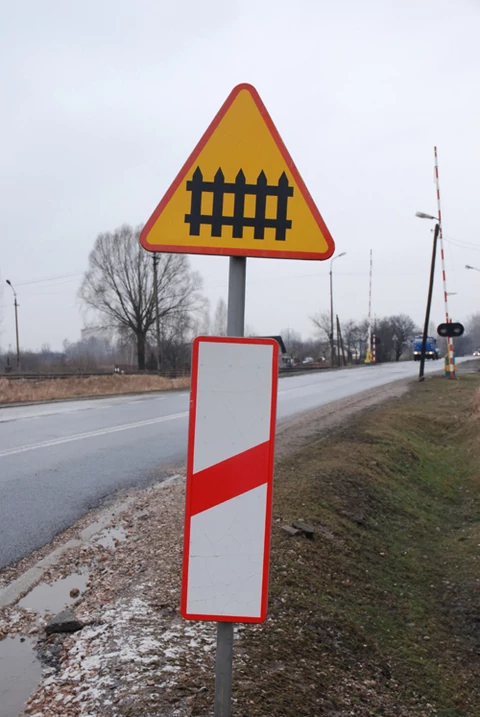a9: (179, 159, 298, 246)
